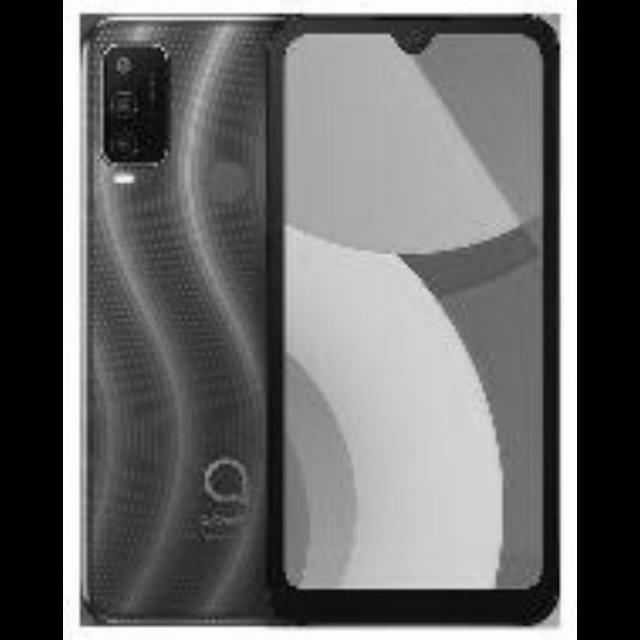fake: (288, 10, 586, 604), (70, 13, 288, 600), (0, 15, 62, 612)
